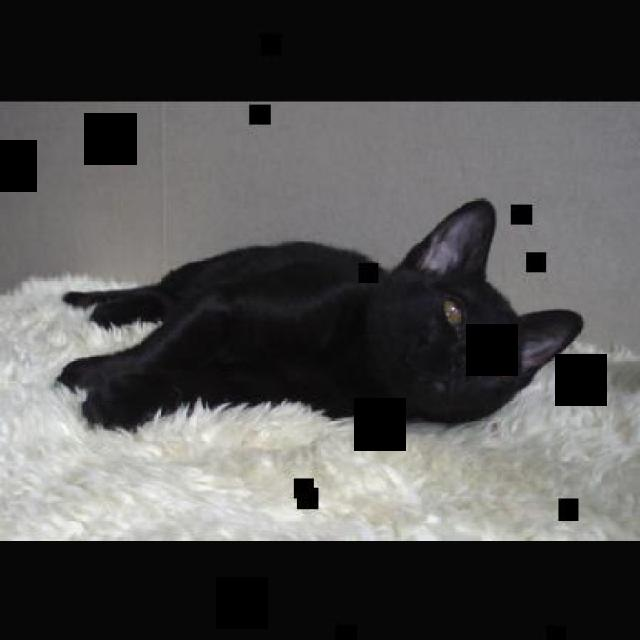unauthorized: (52, 195, 583, 434)
